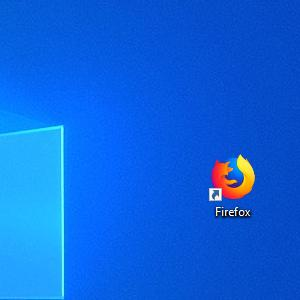firefox: (209, 153, 256, 201)
